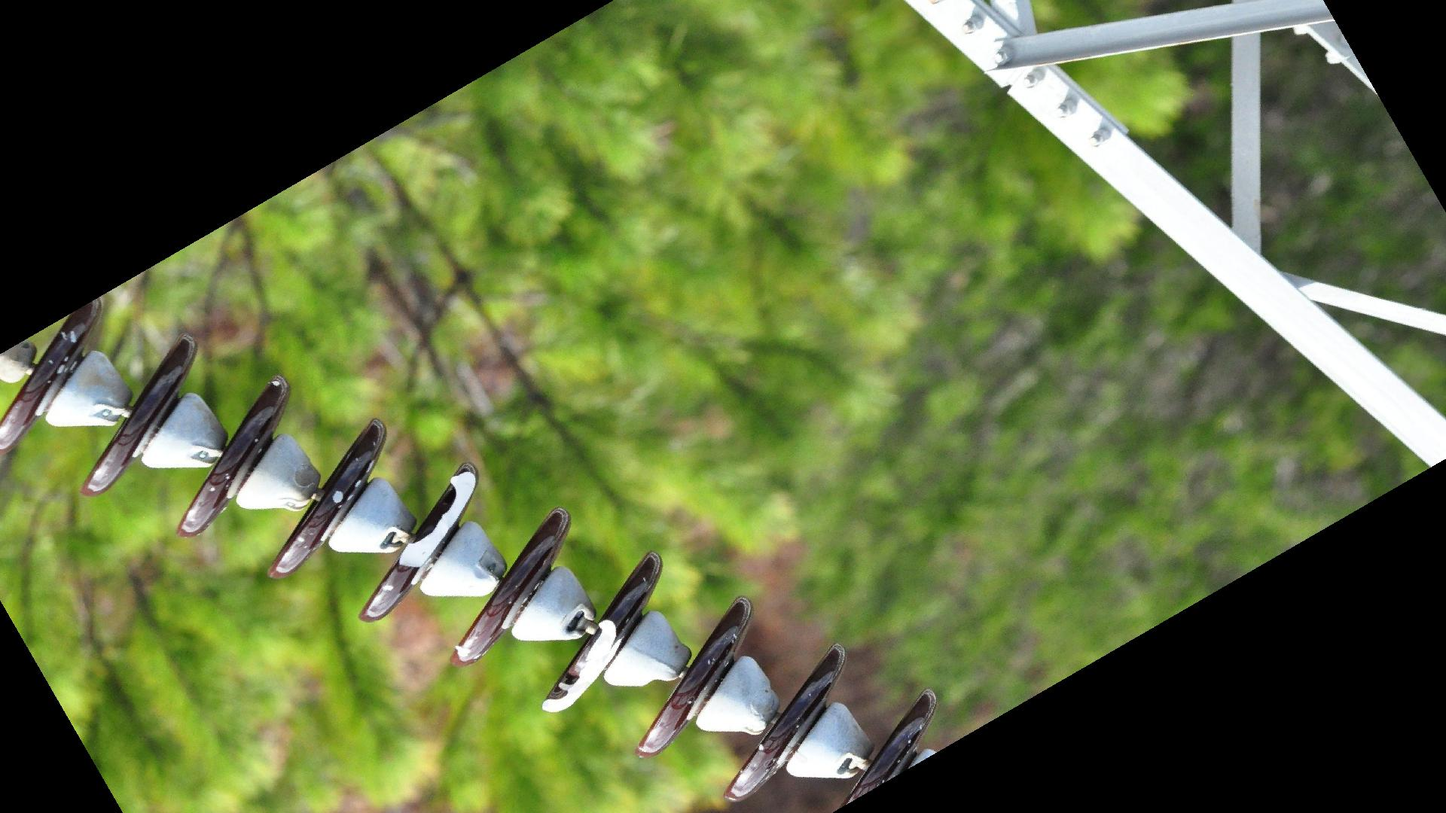insulator: (1, 287, 943, 813)
insulator_breakage: (396, 465, 482, 576), (536, 612, 622, 716)
